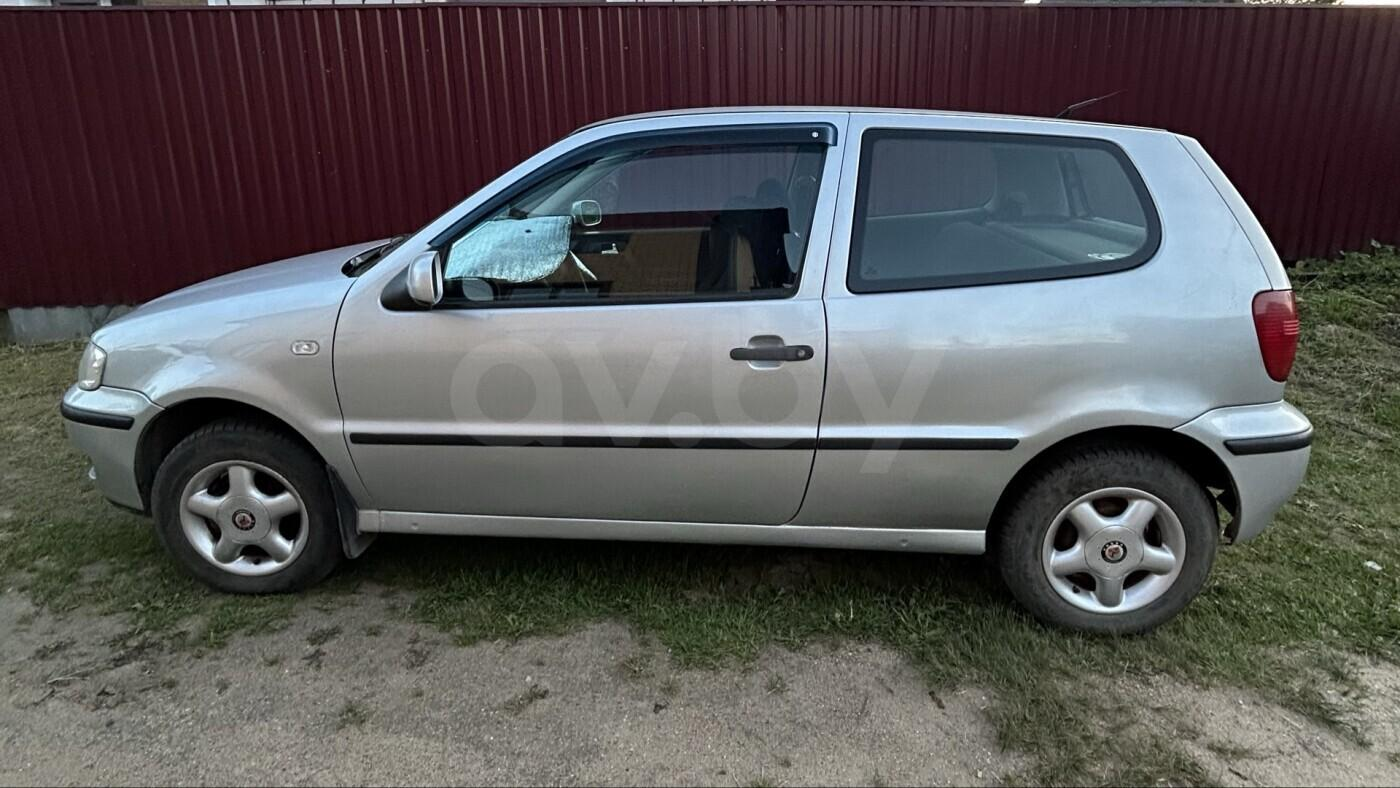Polo_2000-2002: (54, 92, 1302, 662)
